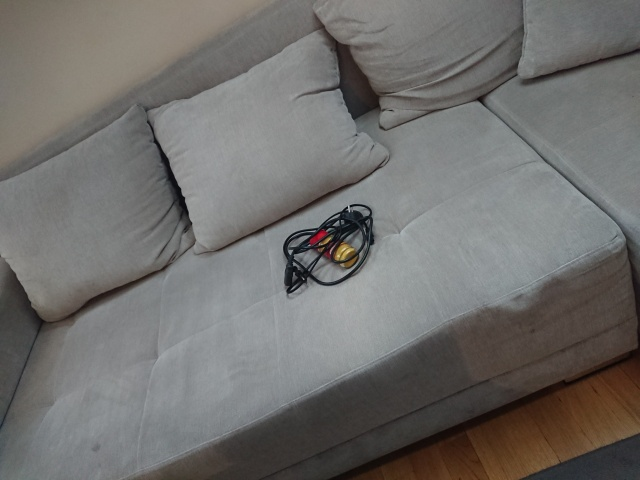Kotanyi Curry Spices Mix 70g: (307, 227, 360, 270)
